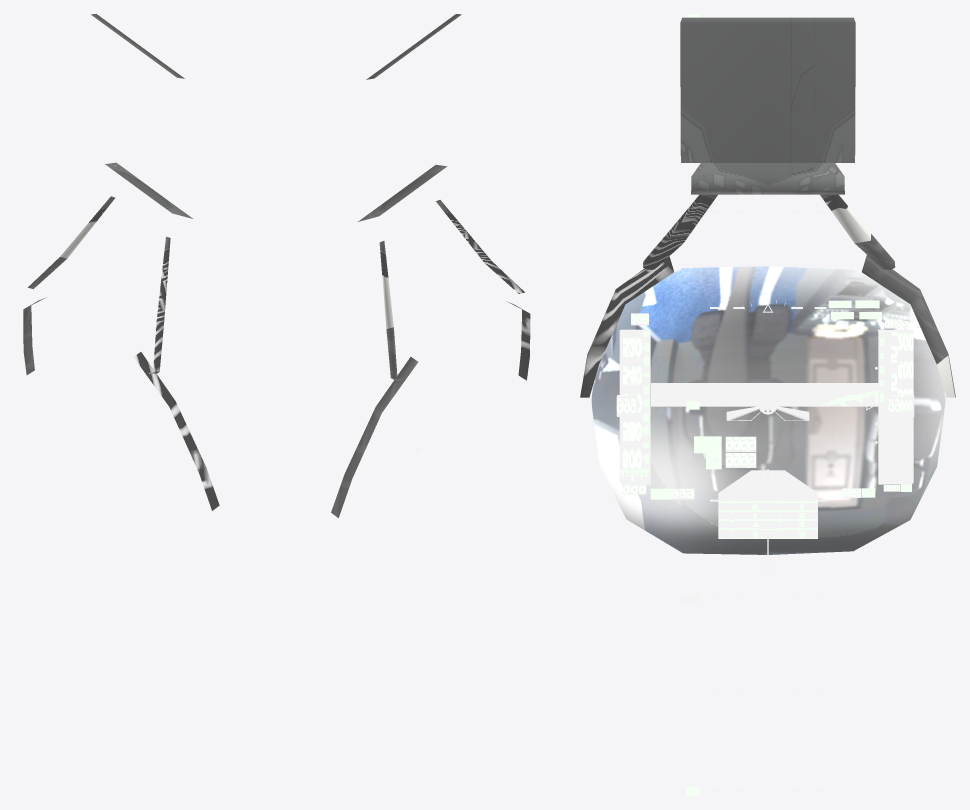
The model's file is hud.glb.
3 views of the same model, side by side, from view 1: azimuth 30°, elevation 25°; view 2: azimuth 150°, elevation 25°; view 3: azimuth 270°, elevation 25° (orthographic). The views are drawn at different scales.
Parts seen in each view (by area): view 1: hudholder; view 2: hudholder; view 3: Glass.001, hudholder, HDGface, headingribbon, ASribbon, RAtape, ALTribbon, line.
Part boxes in pixels (x1,y1,x2,y2): hudholder: [23, 14, 219, 510]; hudholder: [331, 14, 530, 517]; Glass.001: [591, 266, 945, 554]; hudholder: [580, 17, 955, 397]; HDGface: [718, 470, 817, 538]; headingribbon: [651, 383, 878, 406]; ASribbon: [619, 330, 649, 482]; RAtape: [880, 405, 913, 483]; ALTribbon: [880, 330, 913, 405]; line: [621, 329, 912, 537].
Size of the model in its own units: 0.1116 by 0.4294 by 0.1994.
4 materials, 4 textured.
